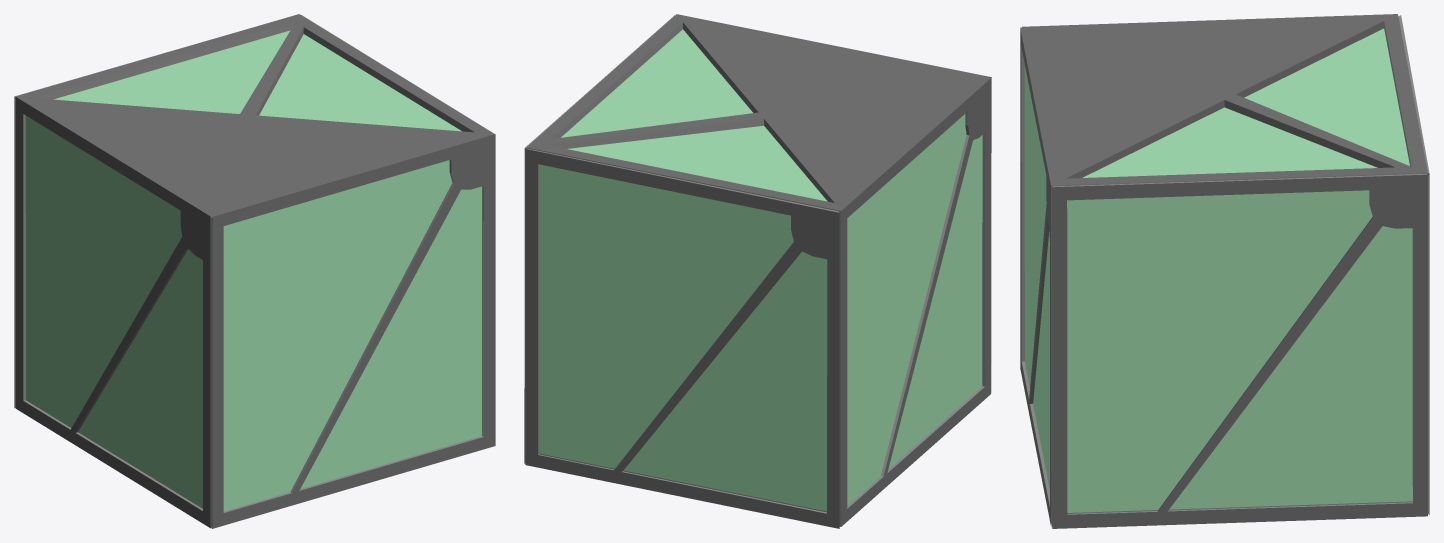
The picture shows the model from 3 angles, left to right: view 1: azimuth 30°, elevation 25°; view 2: azimuth 150°, elevation 25°; view 3: azimuth 270°, elevation 25°; orthographic projection. The views are drawn at different scales.
Parts seen in each view (by area): view 1: pasted__pasted__pasted__pasted__pasted__pasted__polySurface6; view 2: pasted__pasted__pasted__pasted__pasted__pasted__polySurface6; view 3: pasted__pasted__pasted__pasted__pasted__pasted__polySurface6.
Part boxes in pixels (left/top/right/bottom): pasted__pasted__pasted__pasted__pasted__pasted__polySurface6: left=14, top=14, right=495, bottom=528; pasted__pasted__pasted__pasted__pasted__pasted__polySurface6: left=524, top=14, right=991, bottom=528; pasted__pasted__pasted__pasted__pasted__pasted__polySurface6: left=1020, top=14, right=1429, bottom=528.
Bounding box in the file's own units: 8.11 × 7.53 × 8.15.
